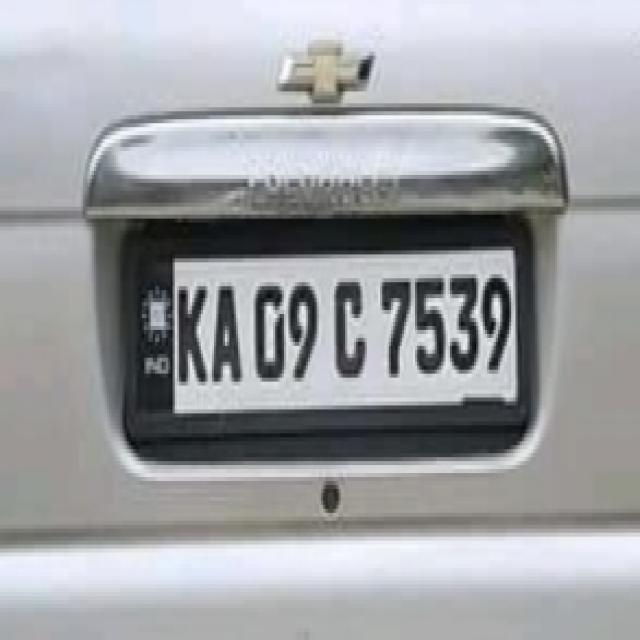0: (251, 276, 286, 388)
3: (446, 266, 480, 386)
5: (413, 266, 449, 390)
7: (378, 268, 416, 388)
9: (479, 270, 515, 381), (287, 274, 322, 387)
A: (210, 273, 244, 394)
C: (328, 270, 369, 389)
K: (172, 272, 208, 390)
